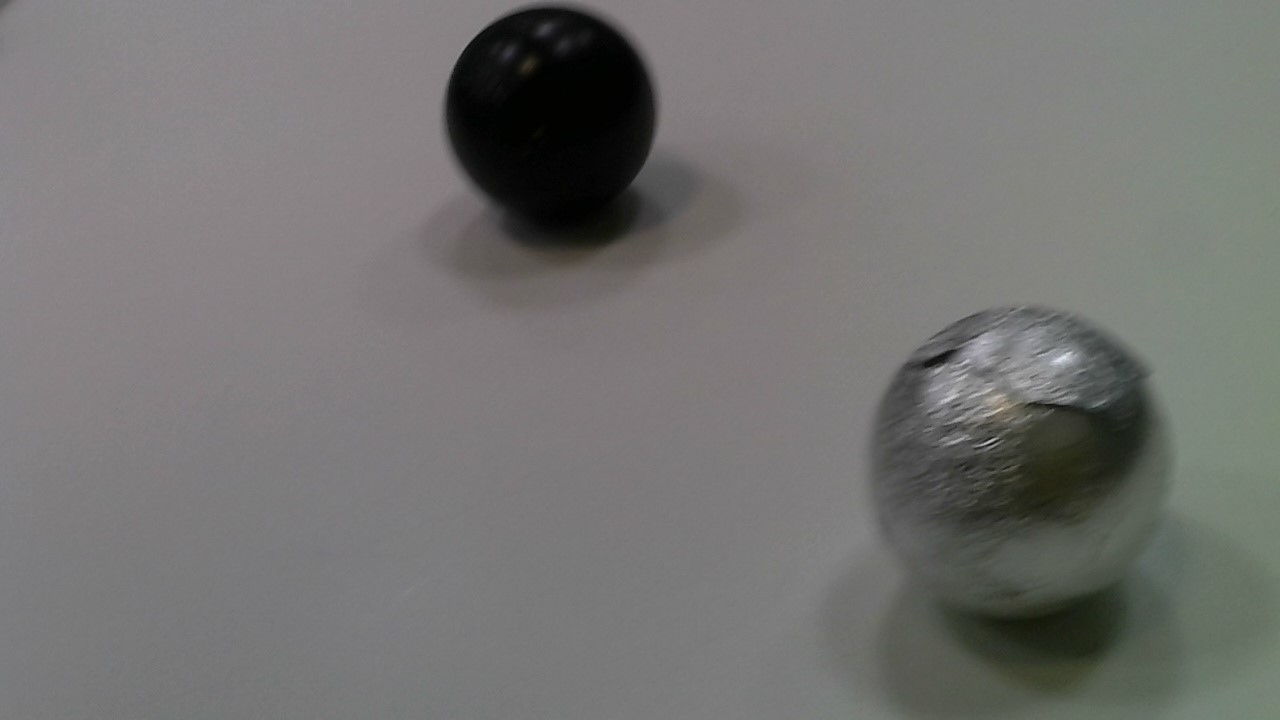black_ball: (441, 8, 667, 233)
silver_ball: (856, 294, 1178, 628)
